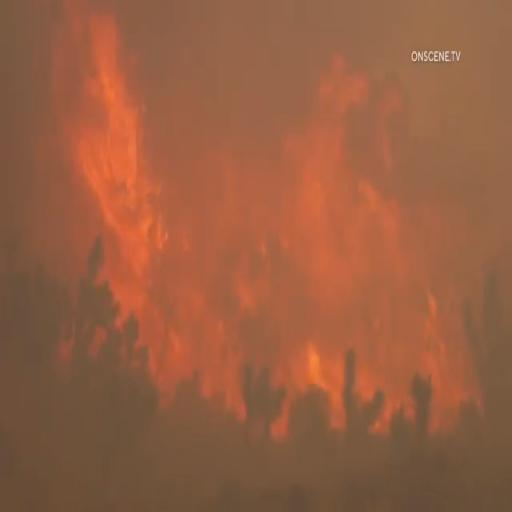fire: (65, 16, 189, 318)
